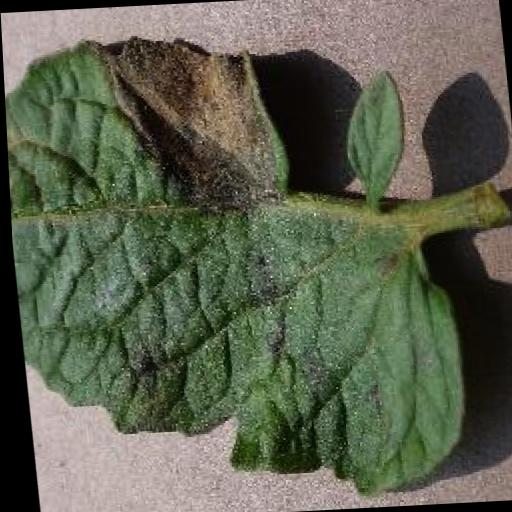Late Blight: (1, 19, 472, 512)
